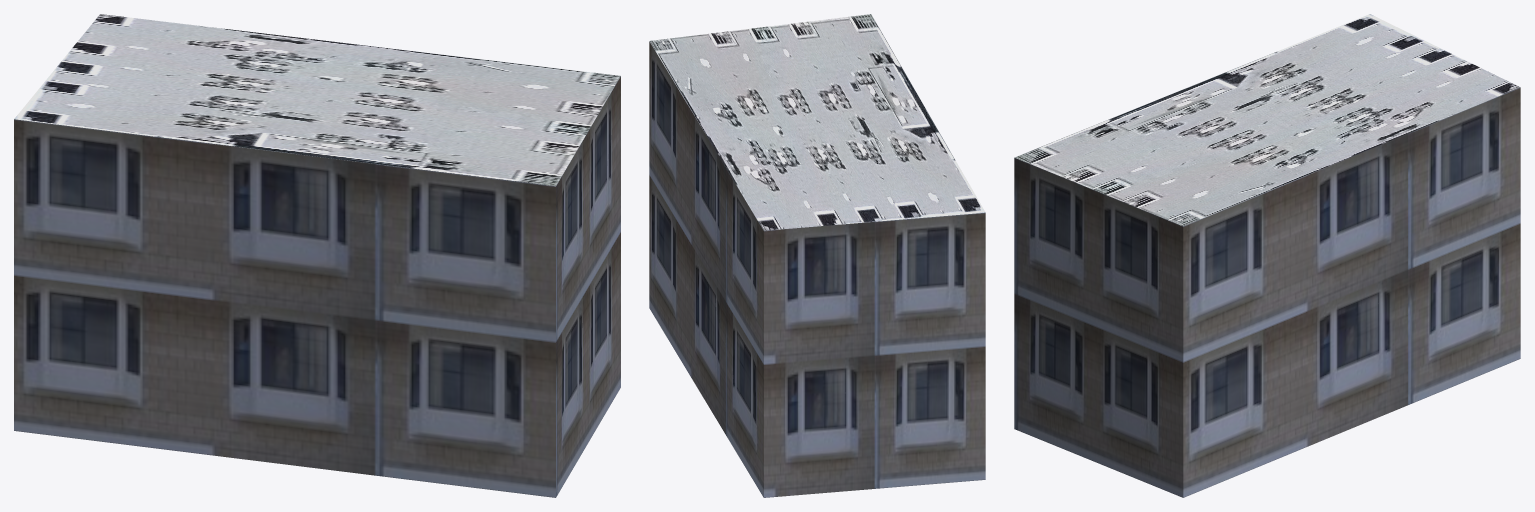
File: ResTex__4780.fbx
3 views of the same model, side by side, from view 1: azimuth 30°, elevation 25°; view 2: azimuth 150°, elevation 25°; view 3: azimuth 270°, elevation 25° (orthographic). The views are drawn at different scales.
Parts seen in each view (by area): view 1: CityEngineMaterial_3_m, CityEngineMaterial_8_m; view 2: CityEngineMaterial_3_m, CityEngineMaterial_8_m; view 3: CityEngineMaterial_3_m, CityEngineMaterial_8_m.
Part boxes in pixels (x1=…): CityEngineMaterial_3_m: x1=14, y1=76, x2=620, y2=497; CityEngineMaterial_8_m: x1=14, y1=14, x2=620, y2=186; CityEngineMaterial_3_m: x1=649, y1=41, x2=985, y2=497; CityEngineMaterial_8_m: x1=649, y1=14, x2=985, y2=230; CityEngineMaterial_3_m: x1=1014, y1=87, x2=1520, y2=497; CityEngineMaterial_8_m: x1=1015, y1=14, x2=1520, y2=226.
Size of the model in its own units: 10.07 by 6 by 10.14.
Materials: 2 (2 with a texture image).
